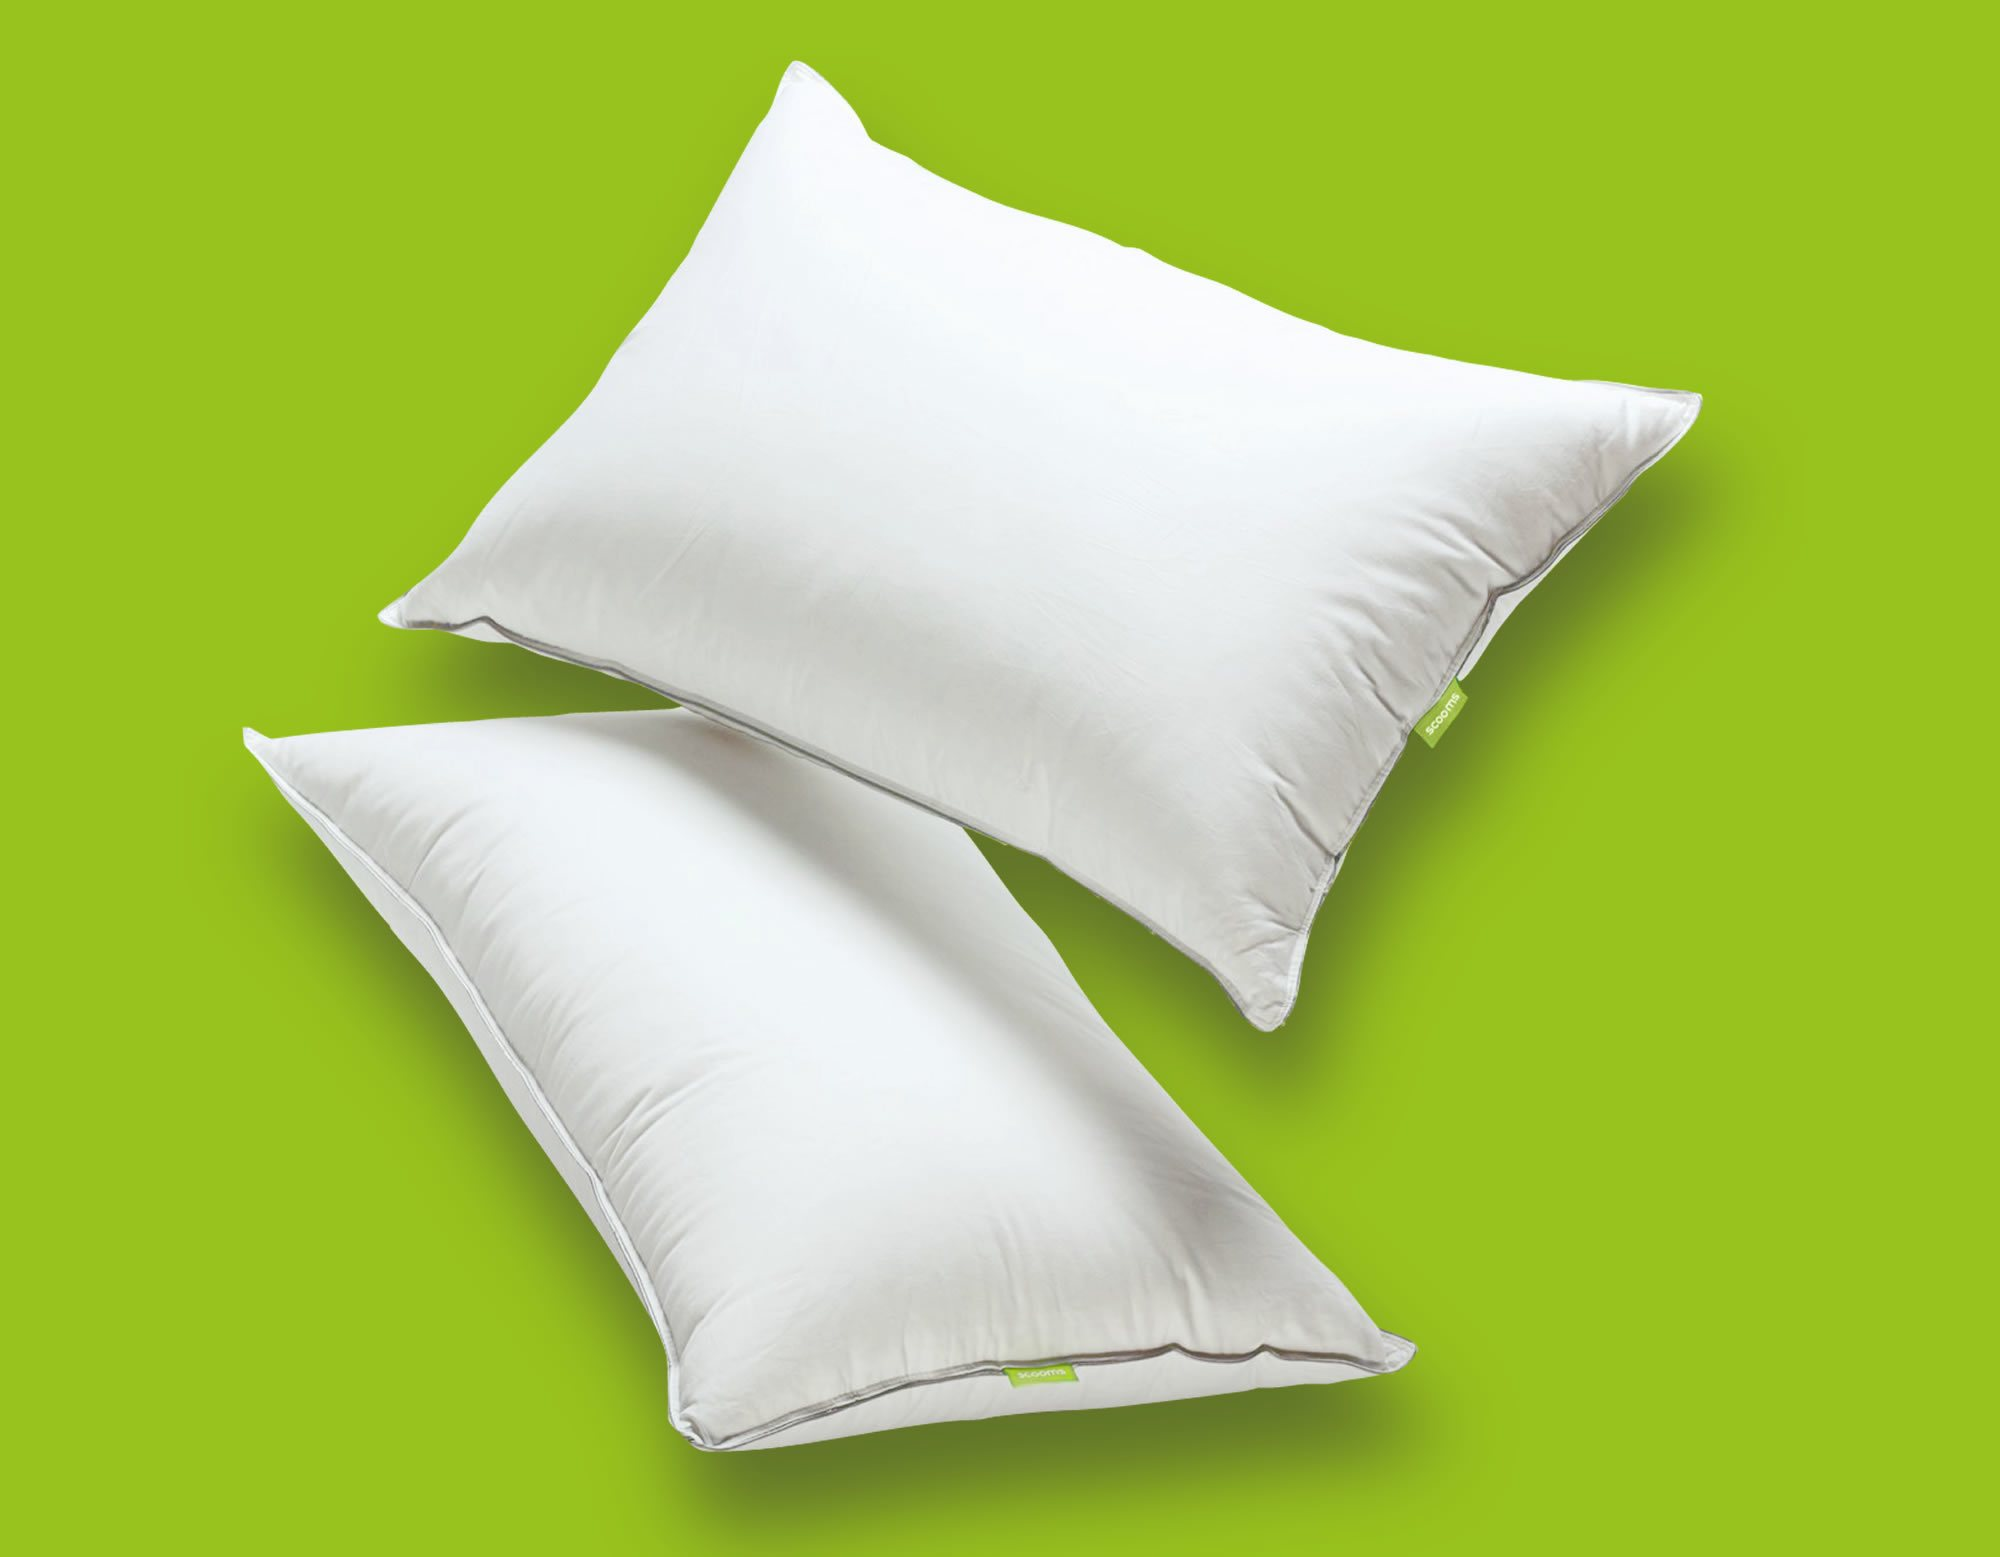bantal: (317, 55, 1623, 986), (208, 708, 1481, 1455)
